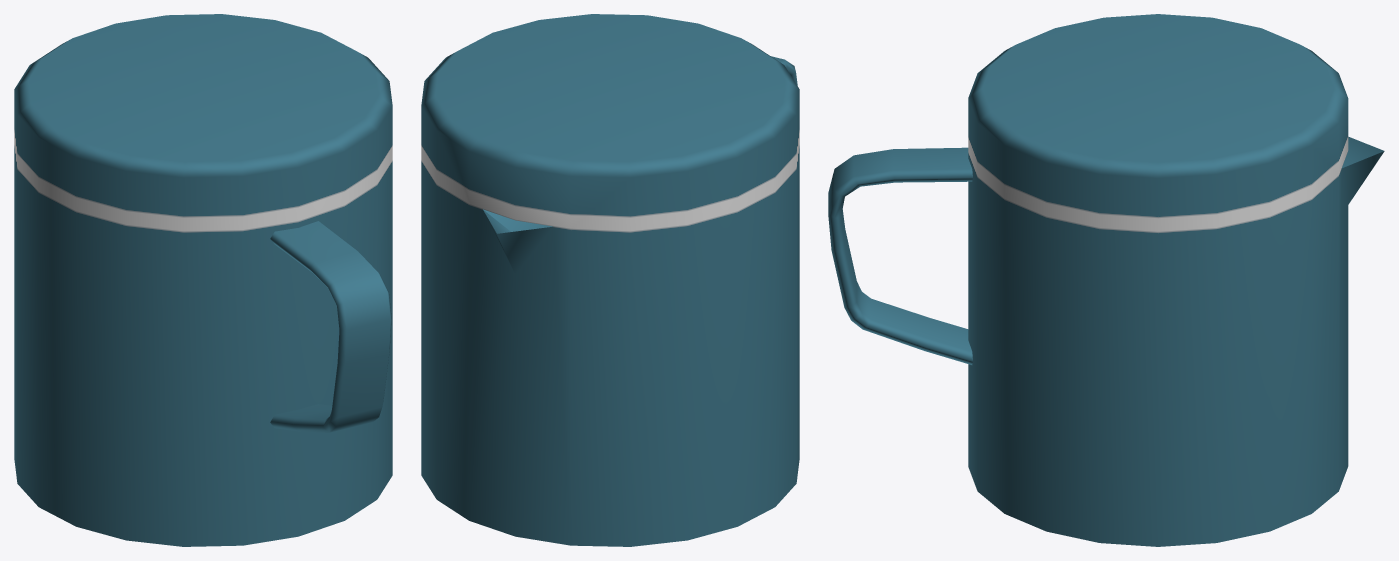
Rendered from coffeeJugBlue.fbx.
3 views of the same model, side by side, from view 1: azimuth 30°, elevation 25°; view 2: azimuth 150°, elevation 25°; view 3: azimuth 270°, elevation 25° (orthographic).
Visible parts, largest first — view 1: coffeeJugBlue; view 2: coffeeJugBlue; view 3: coffeeJugBlue.
Boxes of the visible parts, box(x1,y1,x2,y2) form: coffeeJugBlue: box(14, 14, 392, 546); coffeeJugBlue: box(421, 14, 799, 546); coffeeJugBlue: box(828, 14, 1384, 546).
Bounding box in the file's own units: 0.2139 × 0.2351 × 0.3133.
Materials: 1 (1 with a texture image).
